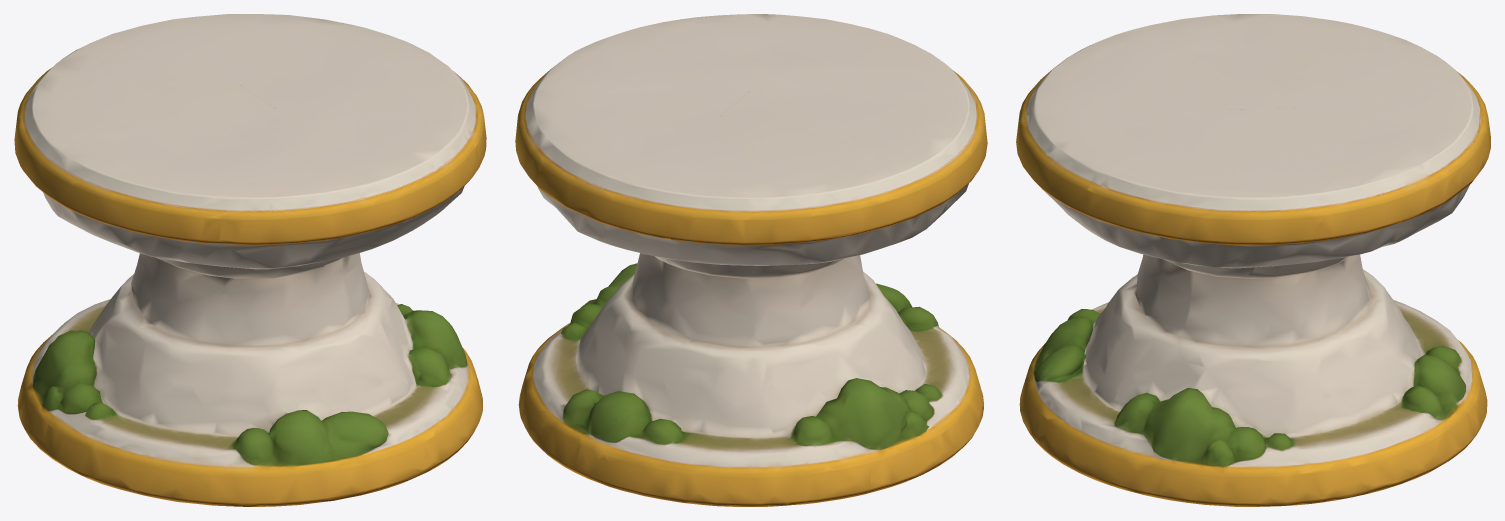
Rendered from podium.glb.
3 views of the same model, side by side, from view 1: azimuth 30°, elevation 25°; view 2: azimuth 150°, elevation 25°; view 3: azimuth 270°, elevation 25° (orthographic).
Parts seen in each view (by area): view 1: tripo_node_95955b42-450f-4bf0-a40b-263ba5435196; view 2: tripo_node_95955b42-450f-4bf0-a40b-263ba5435196; view 3: tripo_node_95955b42-450f-4bf0-a40b-263ba5435196.
Boxes of the visible parts, box(x1,y1,x2,y2) form: tripo_node_95955b42-450f-4bf0-a40b-263ba5435196: box(14, 14, 486, 506); tripo_node_95955b42-450f-4bf0-a40b-263ba5435196: box(515, 14, 987, 506); tripo_node_95955b42-450f-4bf0-a40b-263ba5435196: box(1016, 14, 1490, 506).
Bounding box in the file's own units: 0.9964 × 0.718 × 1.
1 material, 1 textured.
